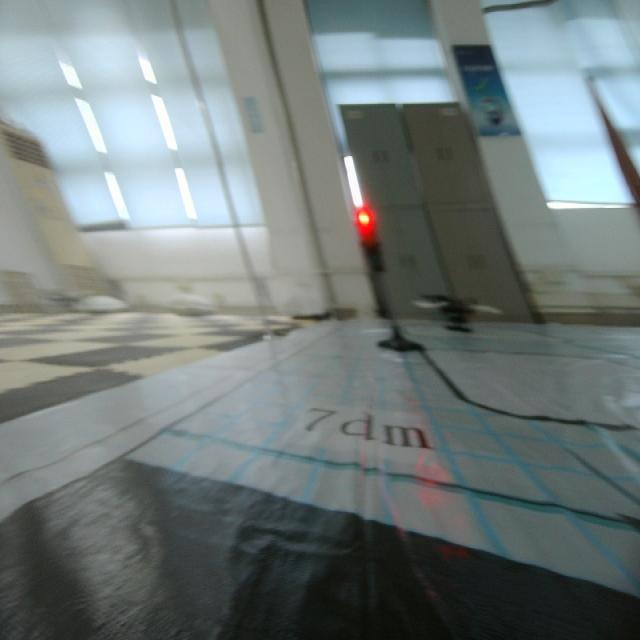red: (346, 198, 391, 282)
